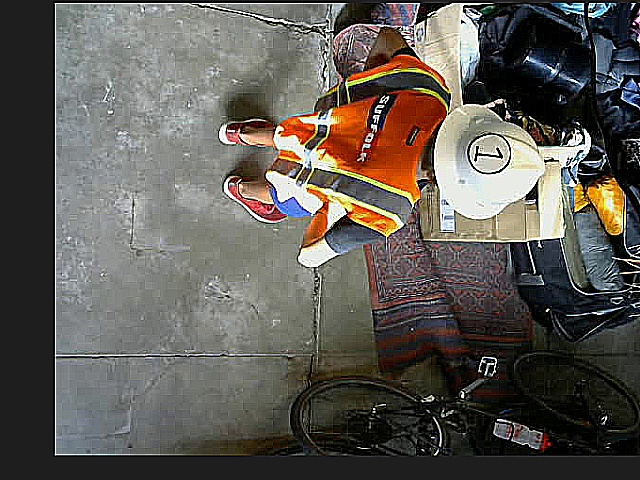one: (467, 132, 510, 172)
